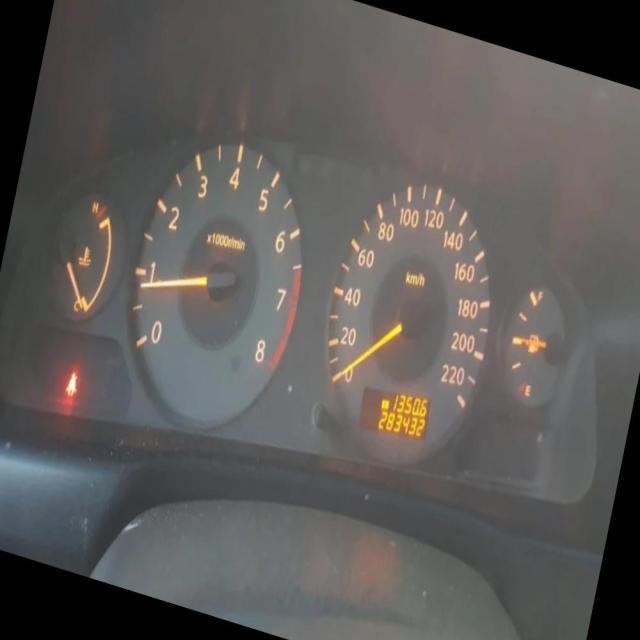Seat Belt: (64, 371, 78, 398)
